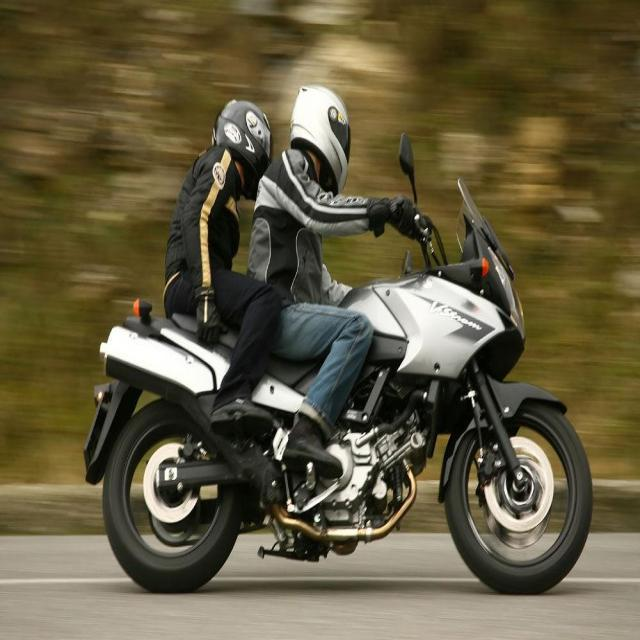helmet: (288, 80, 352, 197), (210, 94, 274, 204)
